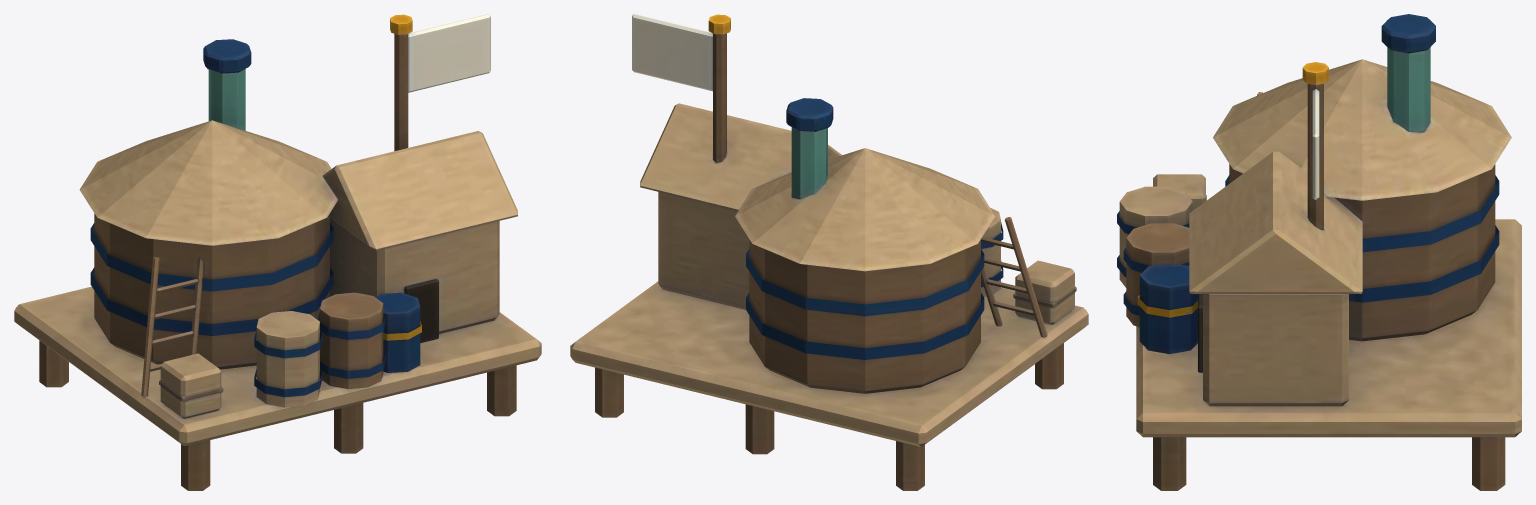
File: refinery-1.glb
The picture shows the model from 3 angles, left to right: view 1: azimuth 30°, elevation 25°; view 2: azimuth 150°, elevation 25°; view 3: azimuth 270°, elevation 25°; orthographic projection. The views are drawn at different scales.
Visible parts, largest first — view 1: refinery-1; view 2: refinery-1; view 3: refinery-1.
Boxes of the visible parts, x1,y1,x2,y2 form: refinery-1: [14, 14, 541, 490]; refinery-1: [570, 14, 1088, 490]; refinery-1: [1117, 14, 1521, 490].
Bounding box in the file's own units: 1.52 × 1.32 × 1.22.
1 material, 1 textured.
